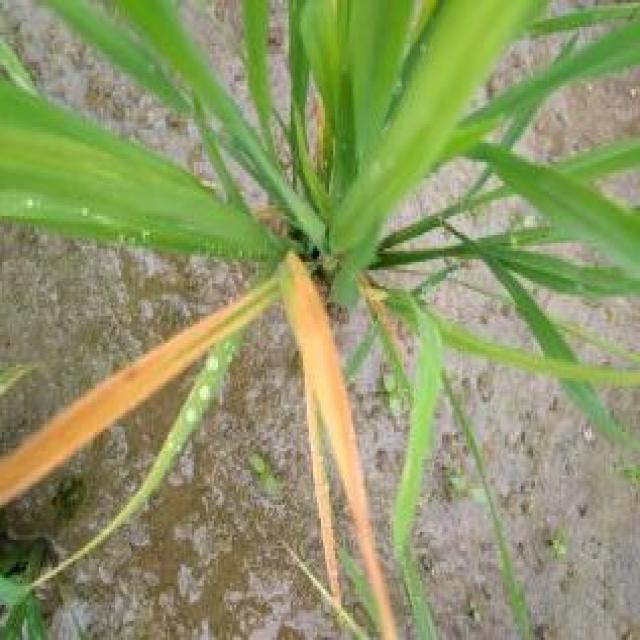Tungro: (0, 248, 391, 640)
